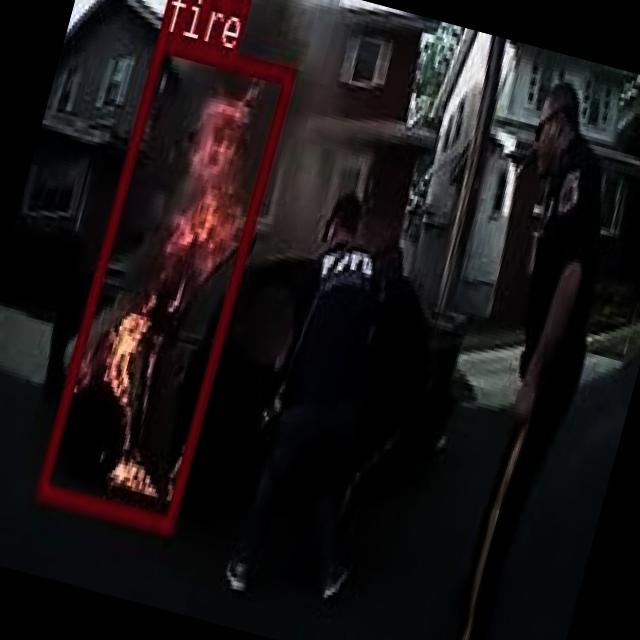fire: (32, 29, 296, 532)
